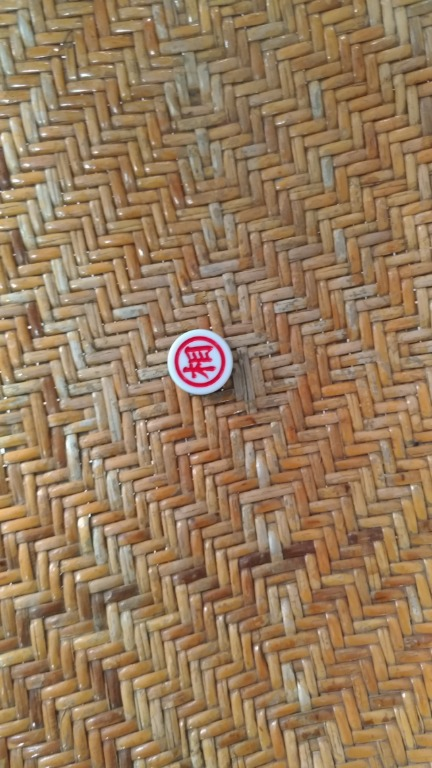r-elephant: (162, 325, 253, 421)
